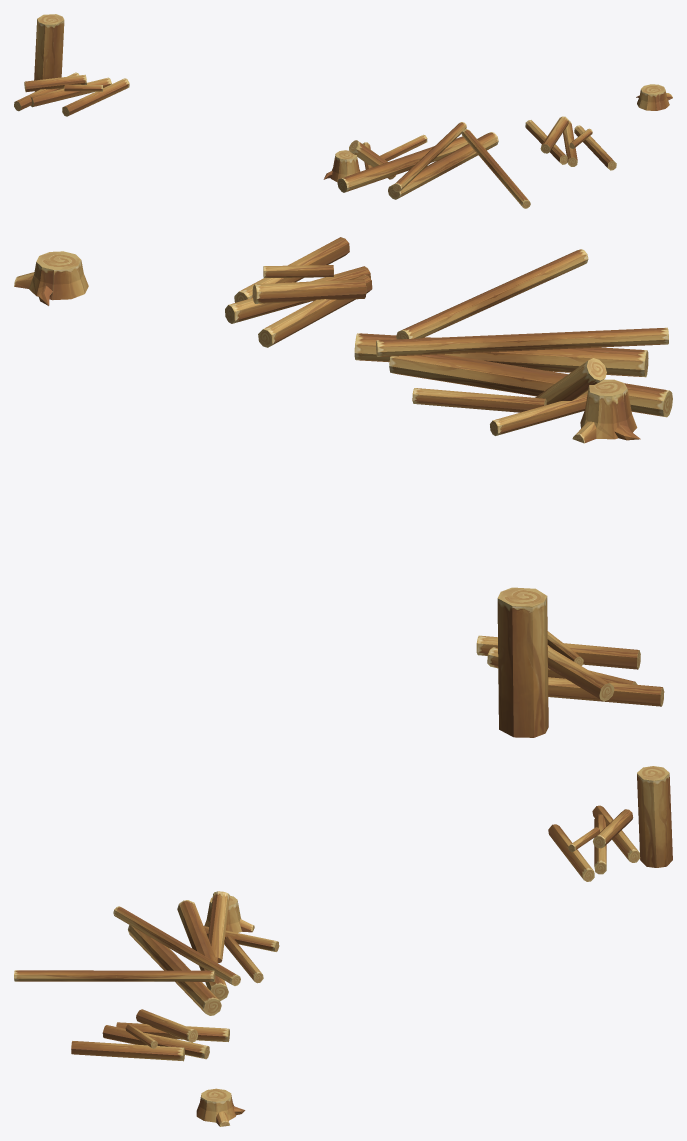
File: rc_01_budA_11.FBX
The picture shows the model from 3 angles, top to bottom: view 1: azimuth 30°, elevation 25°; view 2: azimuth 150°, elevation 25°; view 3: azimuth 270°, elevation 25°; orthographic projection. The views are drawn at different scales.
Visible parts, largest first — view 1: Cylinder038; view 2: Cylinder038; view 3: Cylinder038.
Part boxes in pixels (box(x1,y1,x2,y2)): Cylinder038: box(14, 14, 672, 208); Cylinder038: box(14, 237, 672, 737); Cylinder038: box(14, 766, 672, 1126).
Size of the model in its own units: 16346 by 14680 by 2209.
